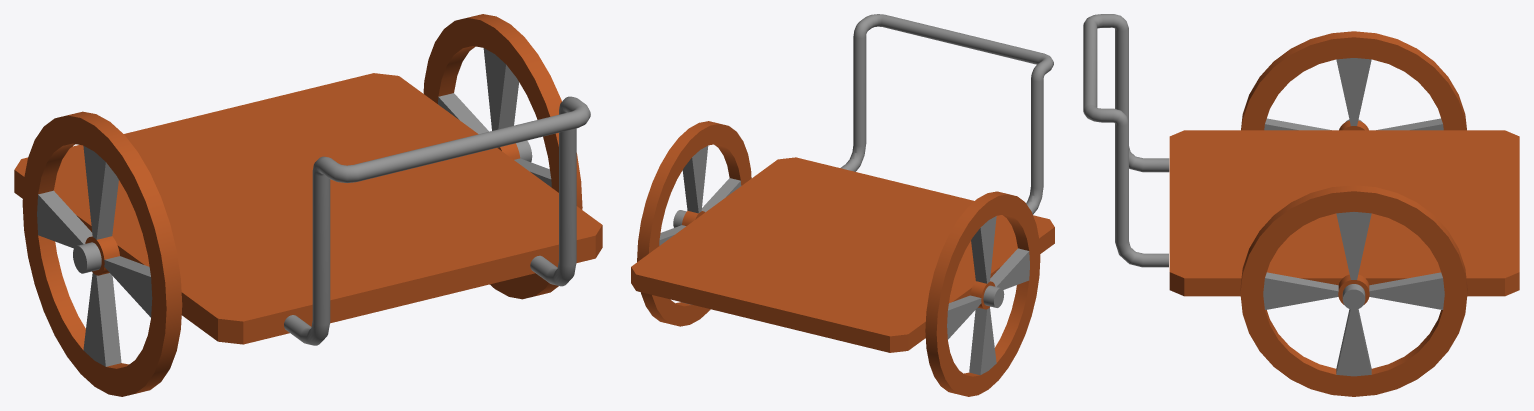
Rendered from alexc_wheel_barrow_or_cart.fbx.
3 views of the same model, side by side, from view 1: azimuth 30°, elevation 25°; view 2: azimuth 150°, elevation 25°; view 3: azimuth 270°, elevation 25° (orthographic). The views are drawn at different scales.
Visible parts, largest first — view 1: wheel_barrow; view 2: wheel_barrow; view 3: wheel_barrow.
Part boxes in pixels (x1,y1,x2,y2): wheel_barrow: [14, 14, 602, 396]; wheel_barrow: [631, 14, 1054, 396]; wheel_barrow: [1083, 14, 1519, 396].
Size of the model in its own units: 231 by 249 by 160.
